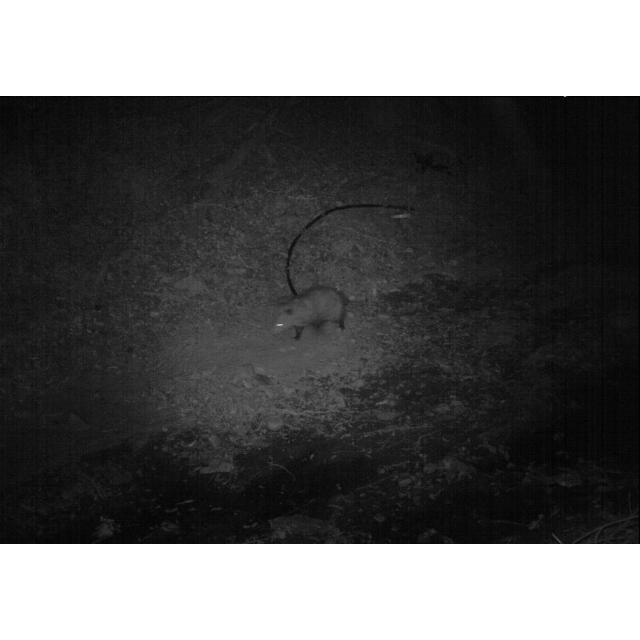animals: (268, 284, 356, 342)
